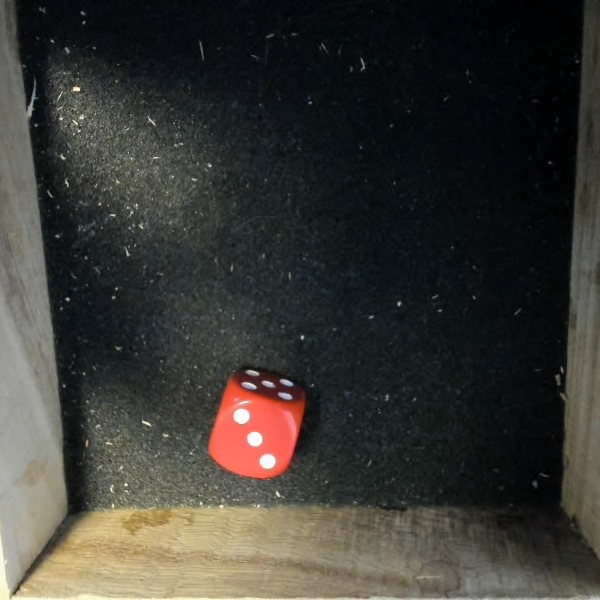red_die_pip3: (200, 360, 316, 490)
